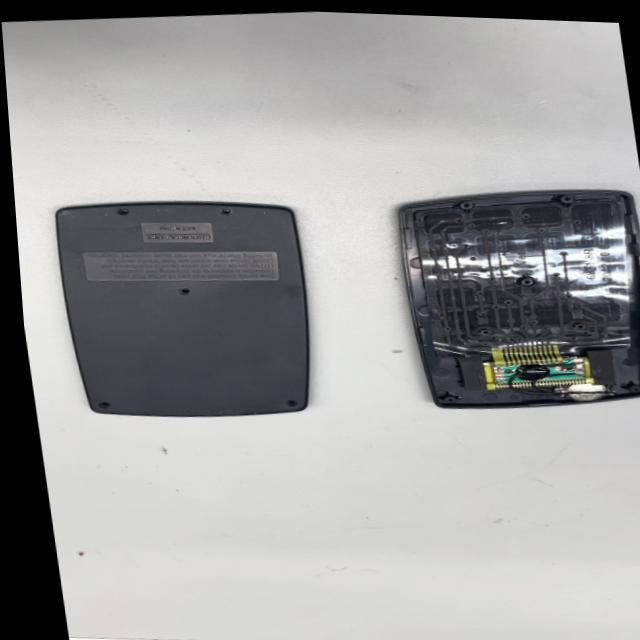back_cover: (37, 181, 338, 435)
front_panel: (393, 173, 640, 423)
